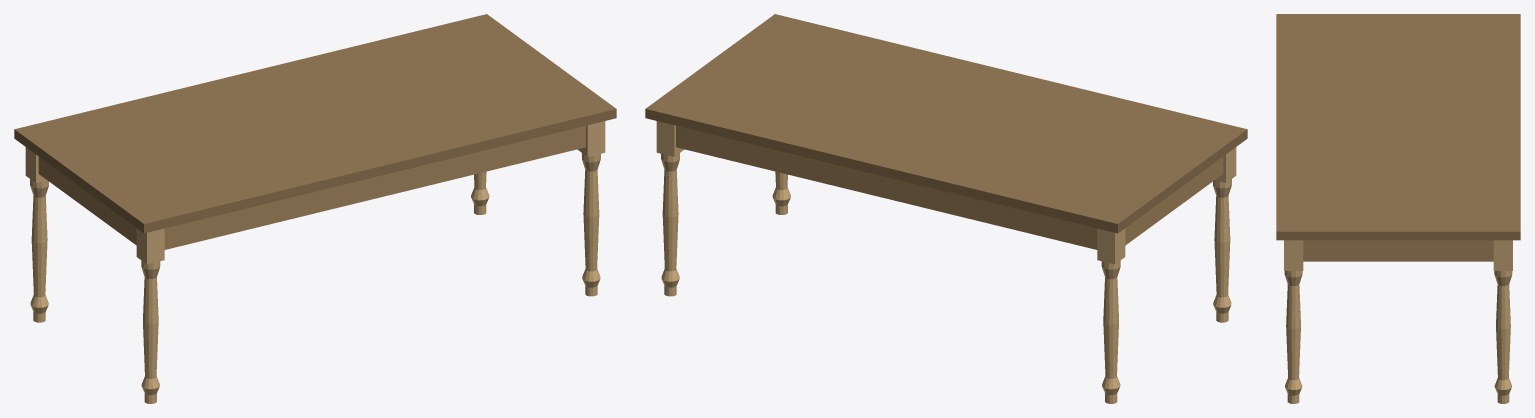
File: SAB-FHT-6-seat.glb
3 views of the same model, side by side, from view 1: azimuth 30°, elevation 25°; view 2: azimuth 150°, elevation 25°; view 3: azimuth 270°, elevation 25° (orthographic). The views are drawn at different scales.
Parts seen in each view (by area): view 1: top:pbr, apron-f:pbr, leg-fl:pbr, leg-fr:pbr, leg-bl:pbr, apron-l:pbr, leg-br:pbr; view 2: top:pbr, apron-b:pbr, leg-bl:pbr, leg-br:pbr, leg-fl:pbr, apron-l:pbr, leg-fr:pbr; view 3: top:pbr, apron-r:pbr, leg-fr:pbr, leg-br:pbr.
Boxes of the visible parts, x1=… form: top:pbr: x1=14, y1=14, x2=616, y2=233; apron-f:pbr: x1=164, y1=125, x2=585, y2=249; leg-fl:pbr: x1=136, y1=228, x2=164, y2=403; leg-fr:pbr: x1=577, y1=121, x2=605, y2=296; leg-bl:pbr: x1=25, y1=147, x2=48, y2=322; apron-l:pbr: x1=38, y1=157, x2=136, y2=245; leg-br:pbr: x1=471, y1=171, x2=489, y2=214; top:pbr: x1=645, y1=14, x2=1247, y2=233; apron-b:pbr: x1=676, y1=125, x2=1097, y2=249; leg-bl:pbr: x1=1097, y1=228, x2=1125, y2=403; leg-br:pbr: x1=656, y1=121, x2=684, y2=296; leg-fl:pbr: x1=1213, y1=147, x2=1236, y2=322; apron-l:pbr: x1=1125, y1=157, x2=1223, y2=245; leg-fr:pbr: x1=772, y1=171, x2=790, y2=214; top:pbr: x1=1276, y1=14, x2=1520, y2=240; apron-r:pbr: x1=1303, y1=240, x2=1493, y2=261; leg-fr:pbr: x1=1284, y1=240, x2=1303, y2=403; leg-br:pbr: x1=1493, y1=240, x2=1512, y2=403.
Size of the model in its own units: 2 by 0.76 by 0.95.
